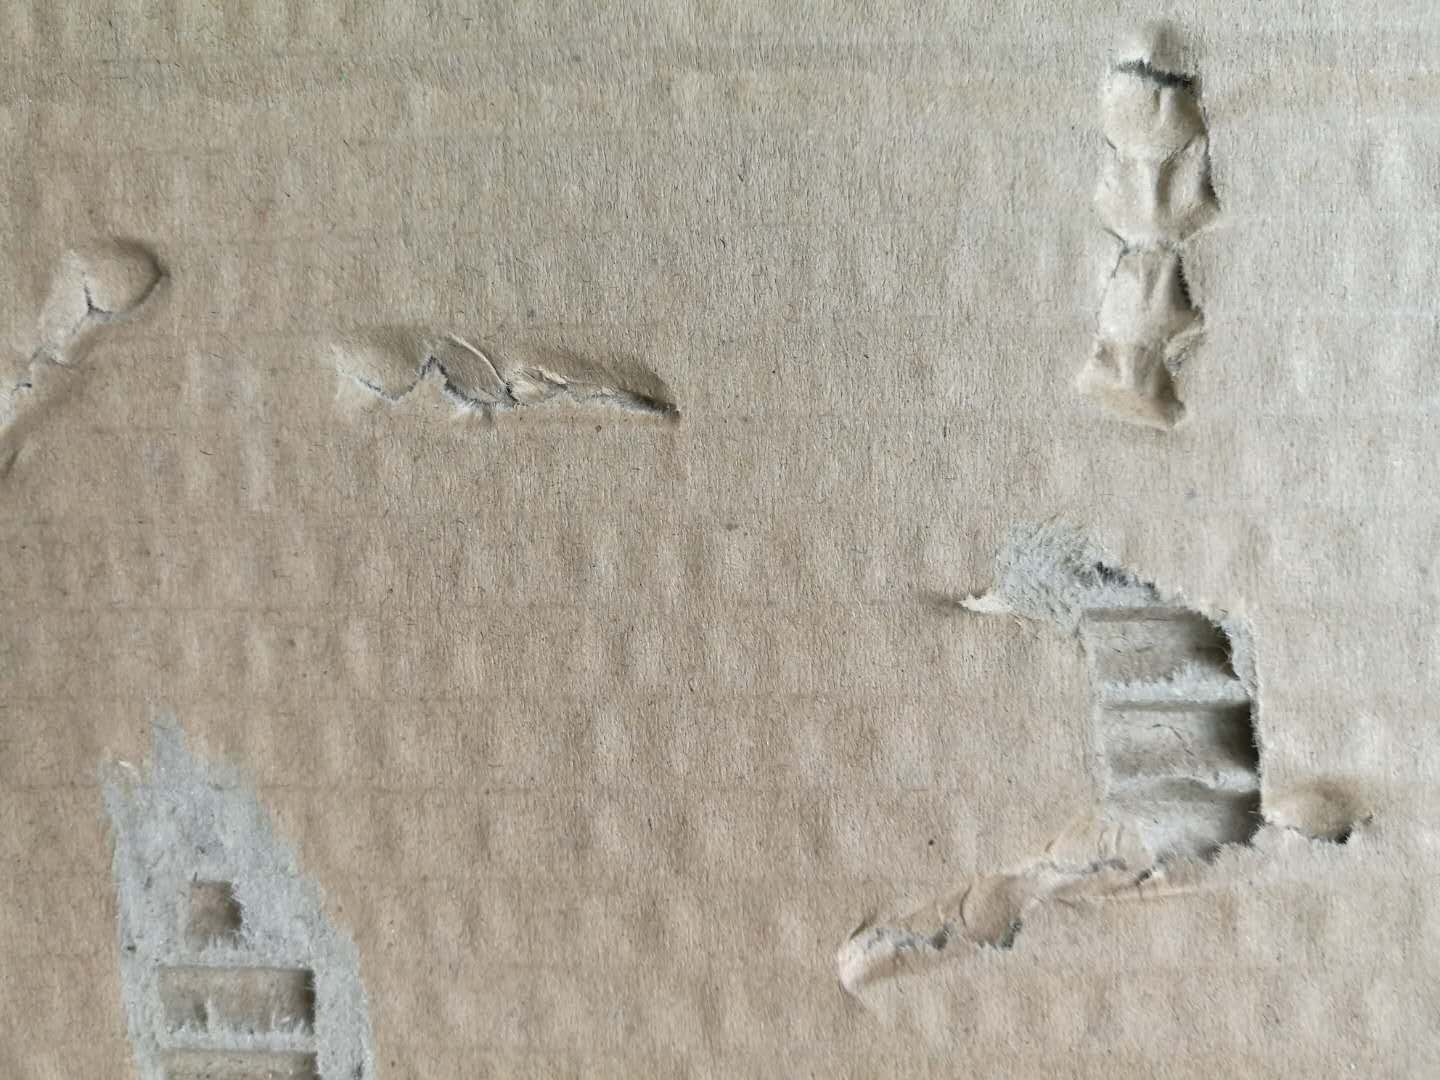defect: (804, 486, 1411, 1026), (62, 680, 442, 1078), (1047, 11, 1268, 450), (302, 294, 743, 486), (1, 199, 206, 505)
